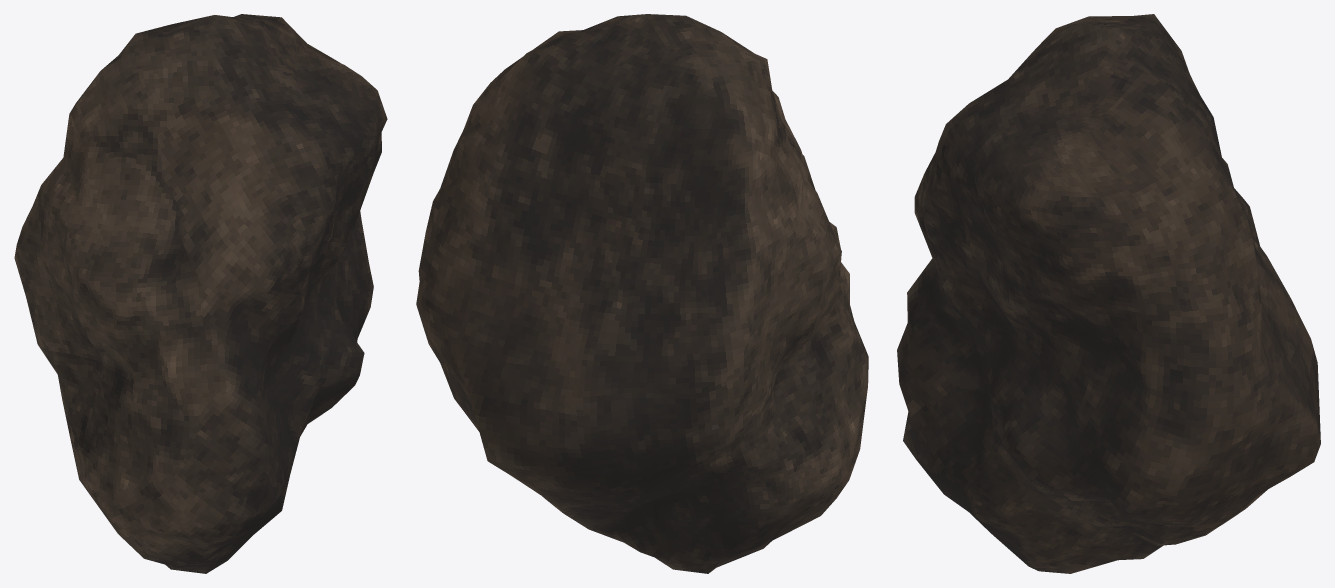
File: SM_RP2_Rock_4m_3.002.glb
The picture shows the model from 3 angles, left to right: view 1: azimuth 30°, elevation 25°; view 2: azimuth 150°, elevation 25°; view 3: azimuth 270°, elevation 25°; orthographic projection. The views are drawn at different scales.
Parts seen in each view (by area): view 1: SM_RP2_Rock_4m_3.002; view 2: SM_RP2_Rock_4m_3.002; view 3: SM_RP2_Rock_4m_3.002.
Part boxes in pixels (x1,y1,x2,y2): SM_RP2_Rock_4m_3.002: (14, 14, 387, 573); SM_RP2_Rock_4m_3.002: (416, 14, 868, 573); SM_RP2_Rock_4m_3.002: (897, 14, 1320, 573).
Bounding box in the file's own units: 4.59 × 6.94 × 4.71.
Materials: 1 (1 with a texture image).
